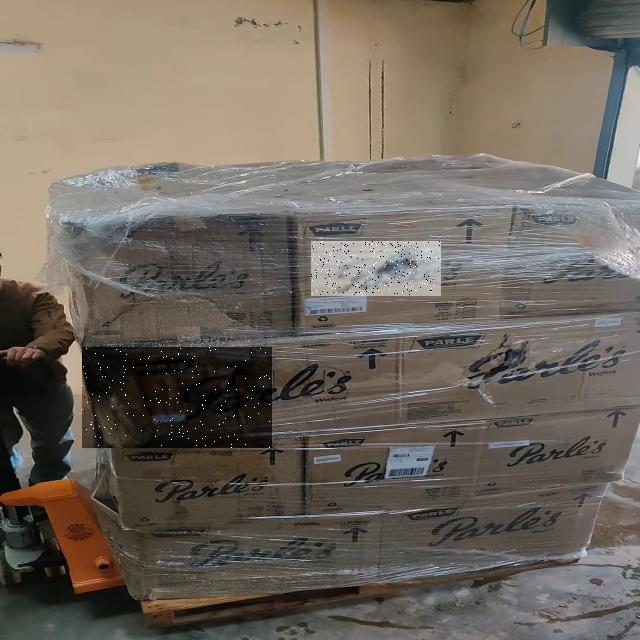squeeze: (82, 347, 270, 448)
tear: (312, 241, 440, 295)
